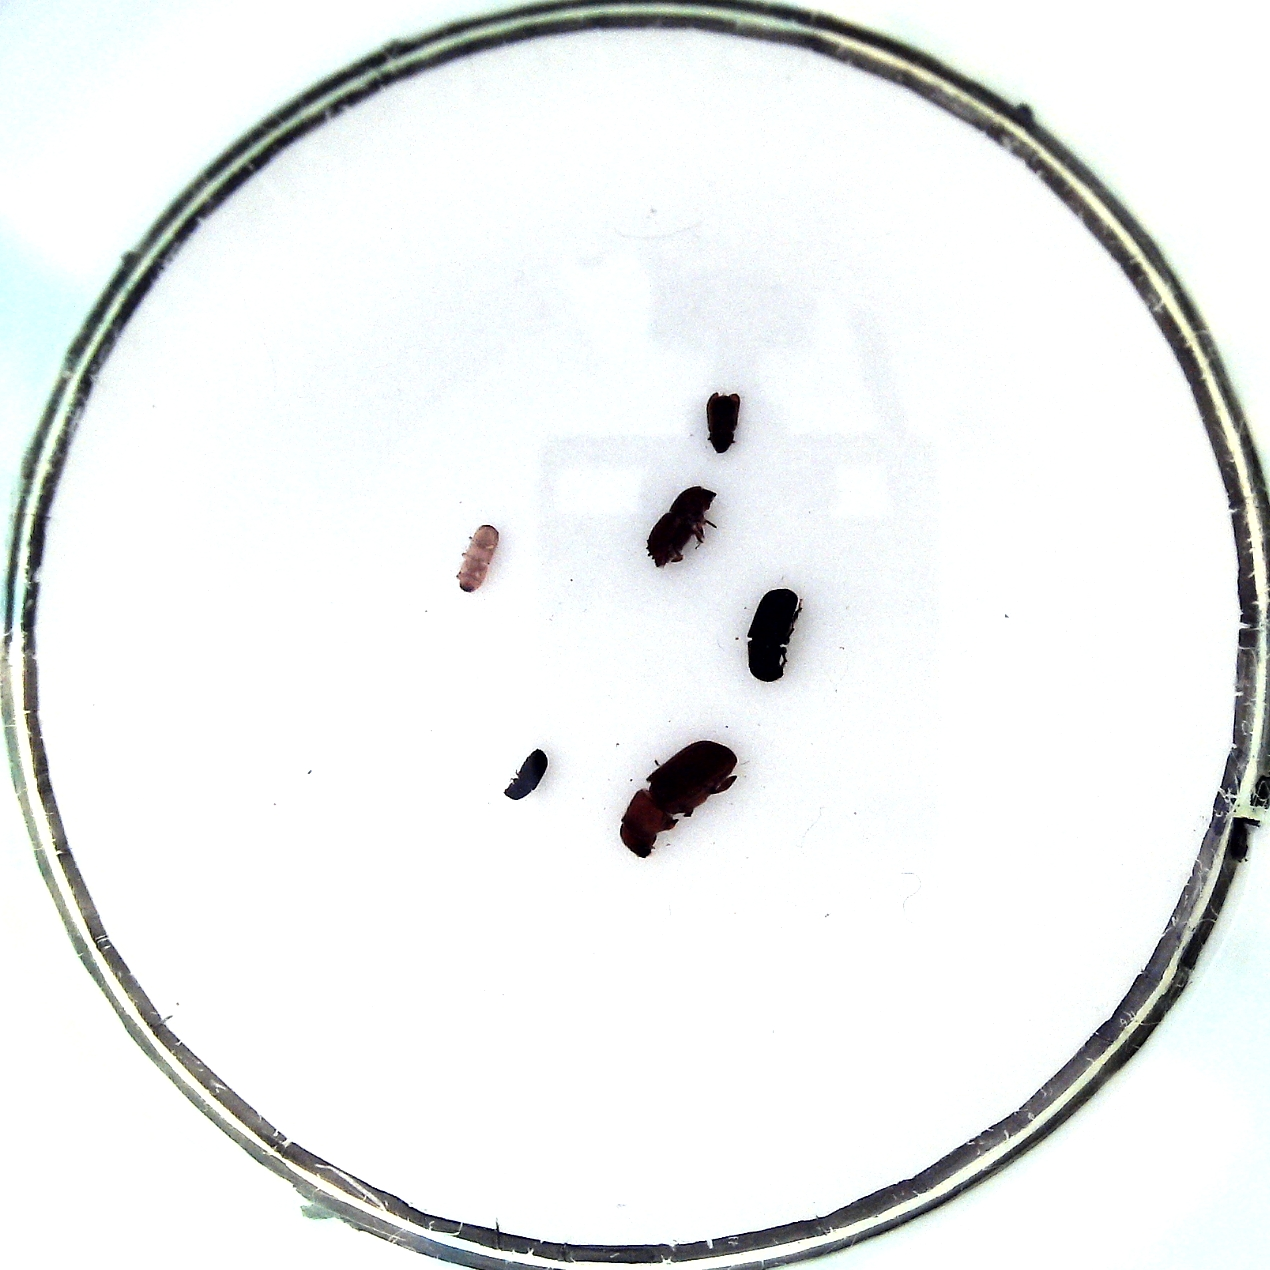Leconte: (619, 739, 739, 859)
acuminatus: (504, 748, 548, 800)
armandi: (747, 588, 798, 682)
coleoptera: (457, 525, 499, 593), (705, 390, 740, 454)
linnaeus: (645, 484, 715, 568)
